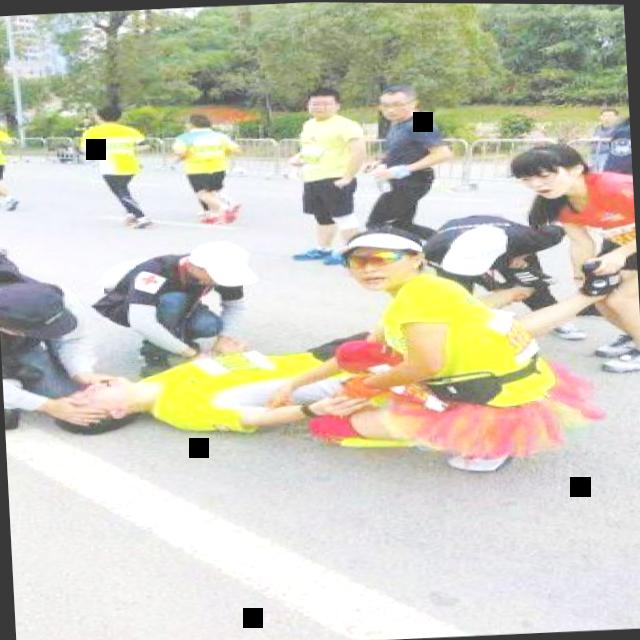Fall-Detected: (39, 323, 408, 448)
